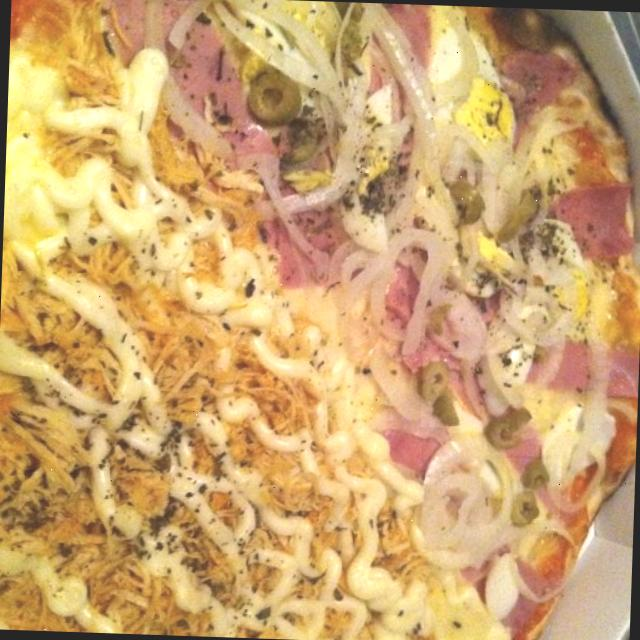Olive: (236, 82, 312, 192), (501, 457, 561, 522), (484, 397, 542, 455), (420, 350, 463, 427), (440, 174, 496, 227)
pizza: (0, 0, 640, 640)
